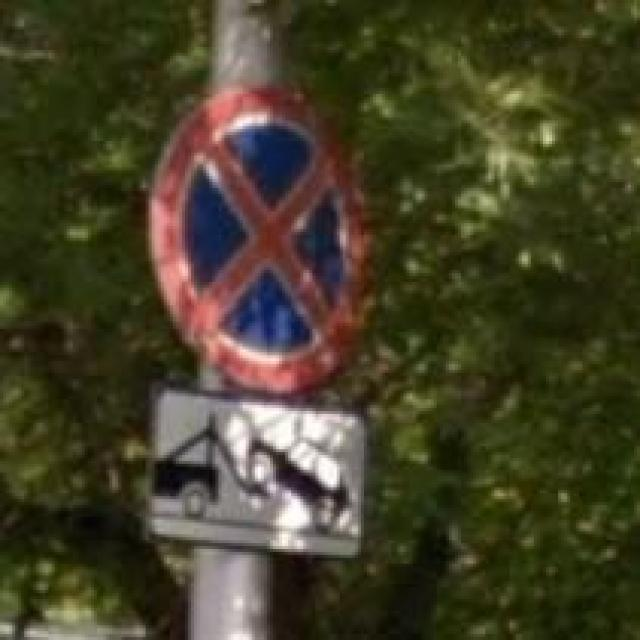Zakaz zatrzymywania sie: (146, 82, 376, 396)
